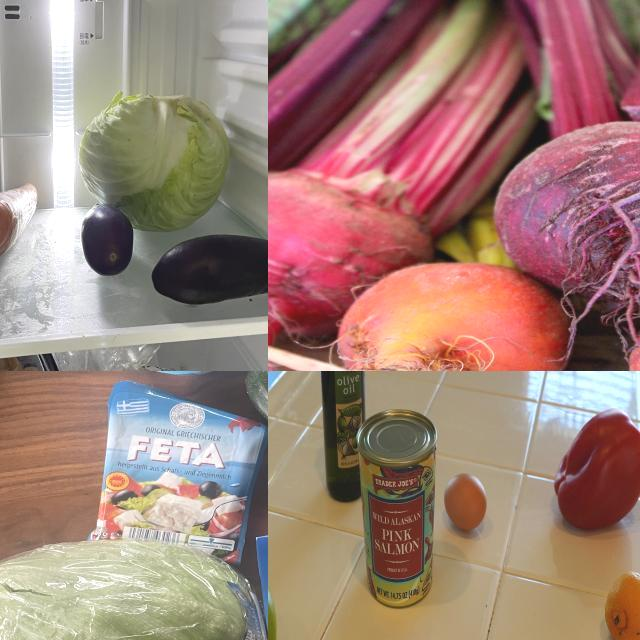beet: (491, 121, 640, 298), (338, 264, 558, 372), (269, 172, 424, 315)
bell_pepper: (534, 403, 640, 535)
cabbage: (1, 542, 269, 640), (77, 93, 233, 231)
carrot: (1, 185, 37, 257)
egg: (444, 471, 492, 540)
eggplant: (154, 233, 269, 309), (83, 202, 136, 280)
